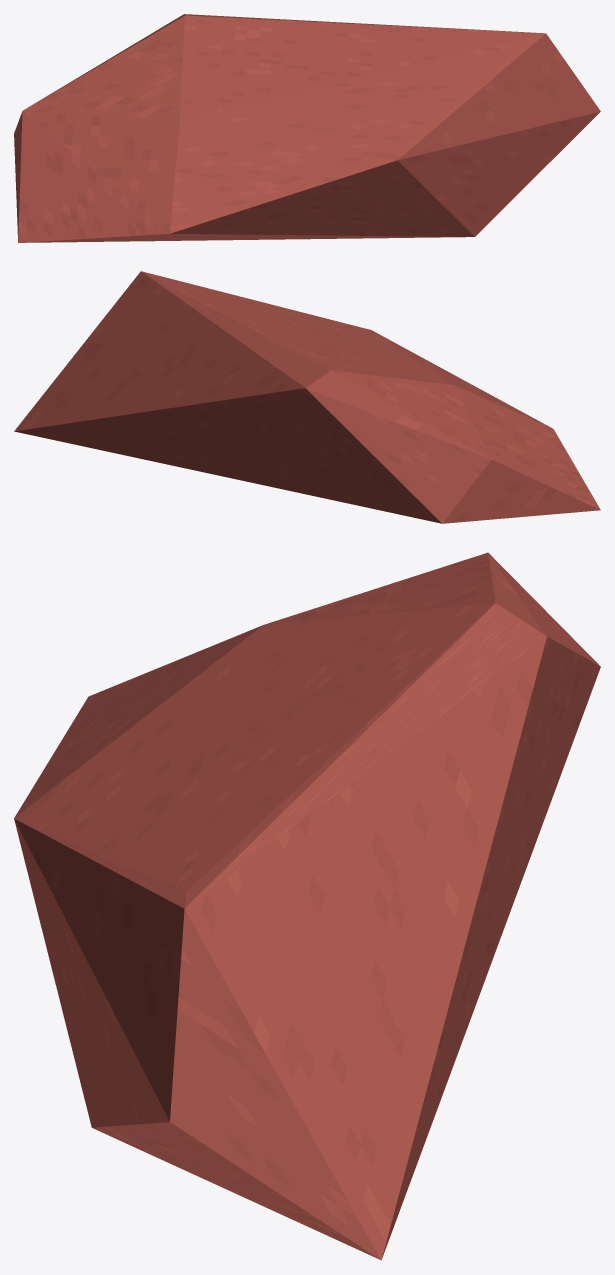
Rendered from fish_scrap.glb.
The picture shows the model from 3 angles, top to bottom: view 1: azimuth 30°, elevation 25°; view 2: azimuth 150°, elevation 25°; view 3: azimuth 270°, elevation 25°; orthographic projection. The views are drawn at different scales.
Parts seen in each view (by area): view 1: block_dry piece; view 2: block_dry piece; view 3: block_dry piece.
Boxes of the visible parts, x1,y1,x2,y2 form: block_dry piece: (14,14,600,242); block_dry piece: (14,271,600,523); block_dry piece: (14,552,600,1260).
Bounding box in the file's own units: 0.0464 × 0.0143 × 0.0214.
Materials: 1 (1 with a texture image).
